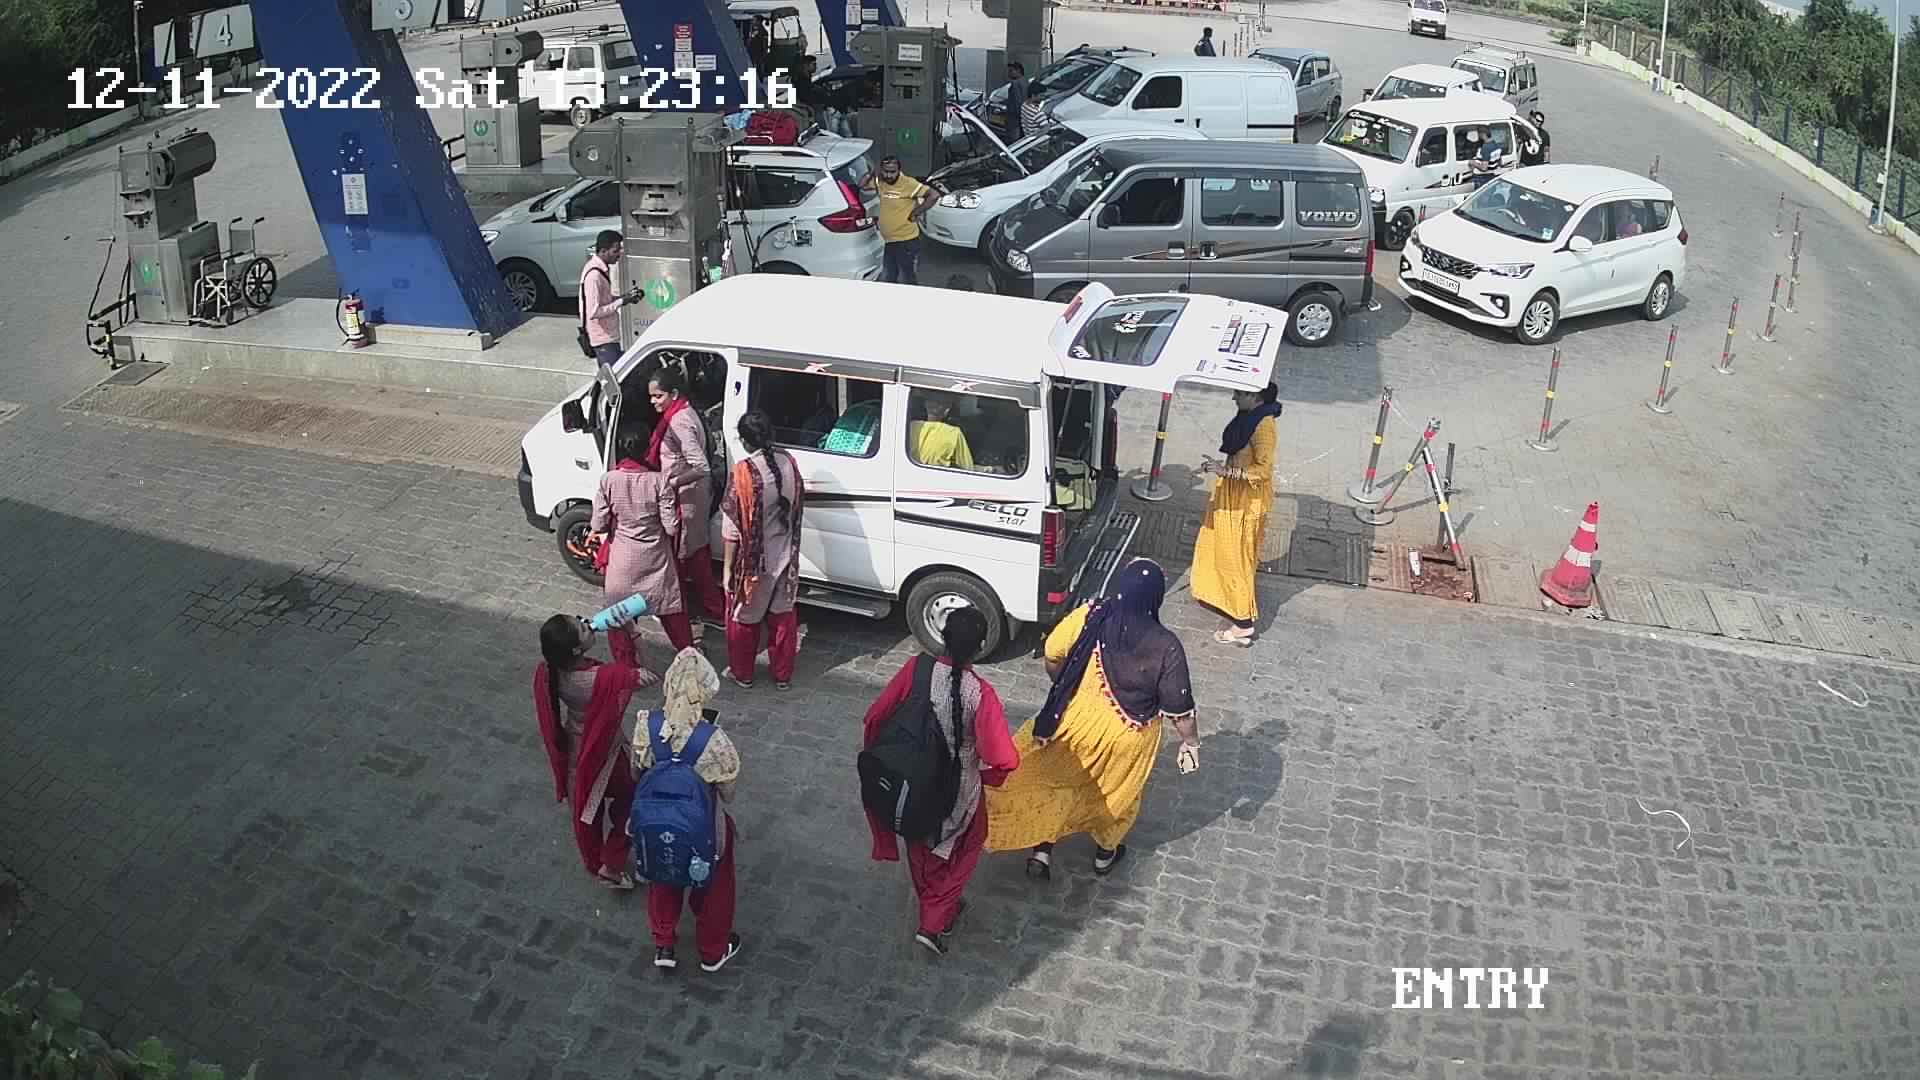Auto: (717, 1, 824, 100)
Car: (508, 269, 1292, 678), (981, 132, 1379, 353), (1393, 156, 1691, 347), (909, 105, 1213, 262), (1309, 88, 1544, 255), (709, 84, 895, 285), (1026, 46, 1305, 146), (978, 38, 1162, 149), (509, 13, 651, 133), (1437, 29, 1545, 132), (1236, 38, 1348, 128), (1356, 59, 1490, 109), (930, 61, 992, 167), (1394, 1, 1462, 46)
